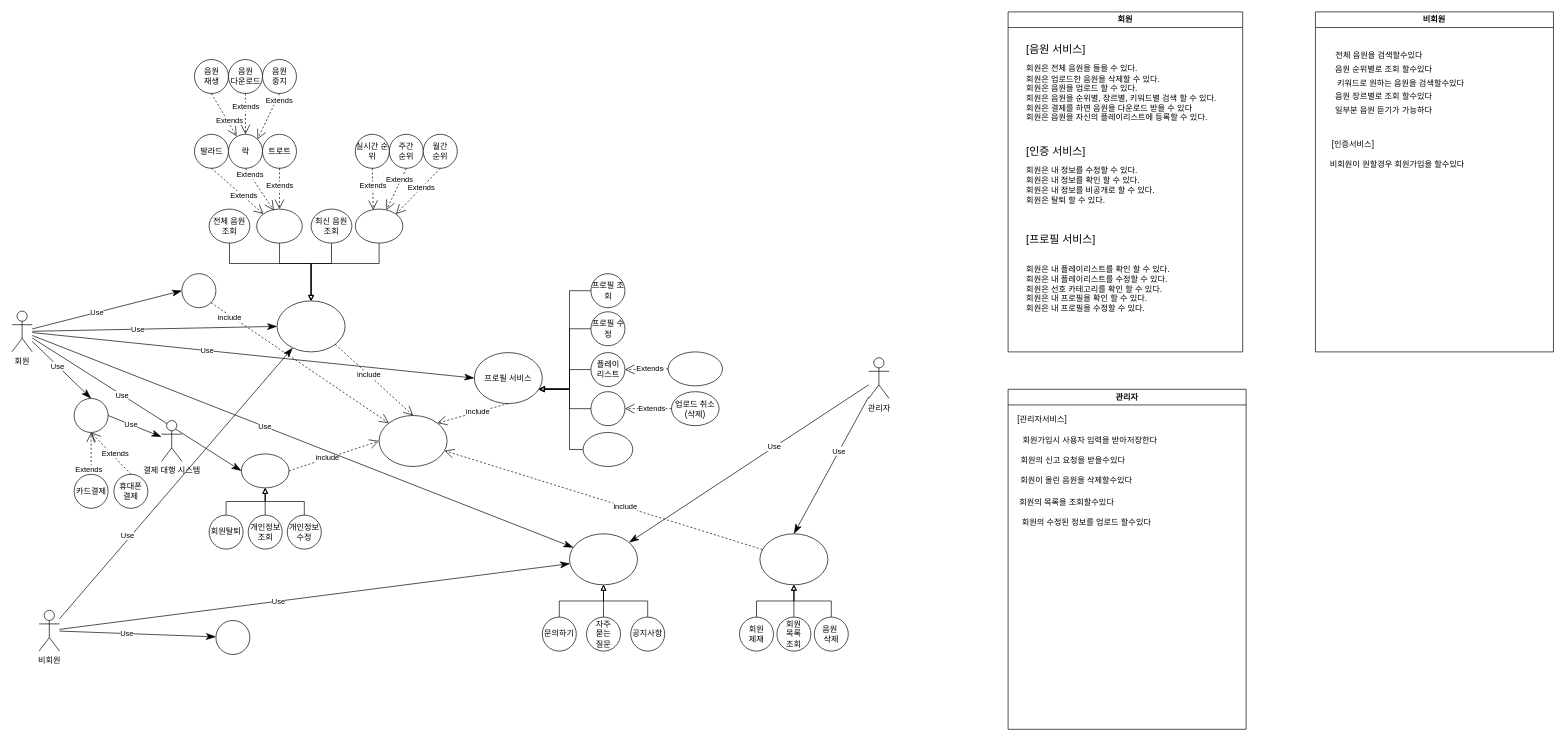
Some shapes in this 1565 by 741 pixel diagram are drawn without their labels. The box of each missing label's shape, as (x1, y1, x2, y2) in pixels:
개인정보 관리: (241, 453, 289, 488)
게시판 서비스: (569, 533, 638, 585)
결제 서비스: (73, 398, 108, 432)
관리자 서비스: (759, 533, 828, 585)
로그인: (378, 415, 447, 466)
순위별 음원 조회: (355, 208, 403, 243)
업로드 조회: (590, 391, 625, 426)
음원 서비스: (276, 300, 345, 352)
음원 업로드: (181, 273, 216, 308)
장르별 음원 조화: (256, 208, 302, 243)
최근 재생한 곡: (582, 432, 633, 466)
플레이리스트 수정: (667, 351, 722, 386)
회원가입: (215, 620, 250, 654)
